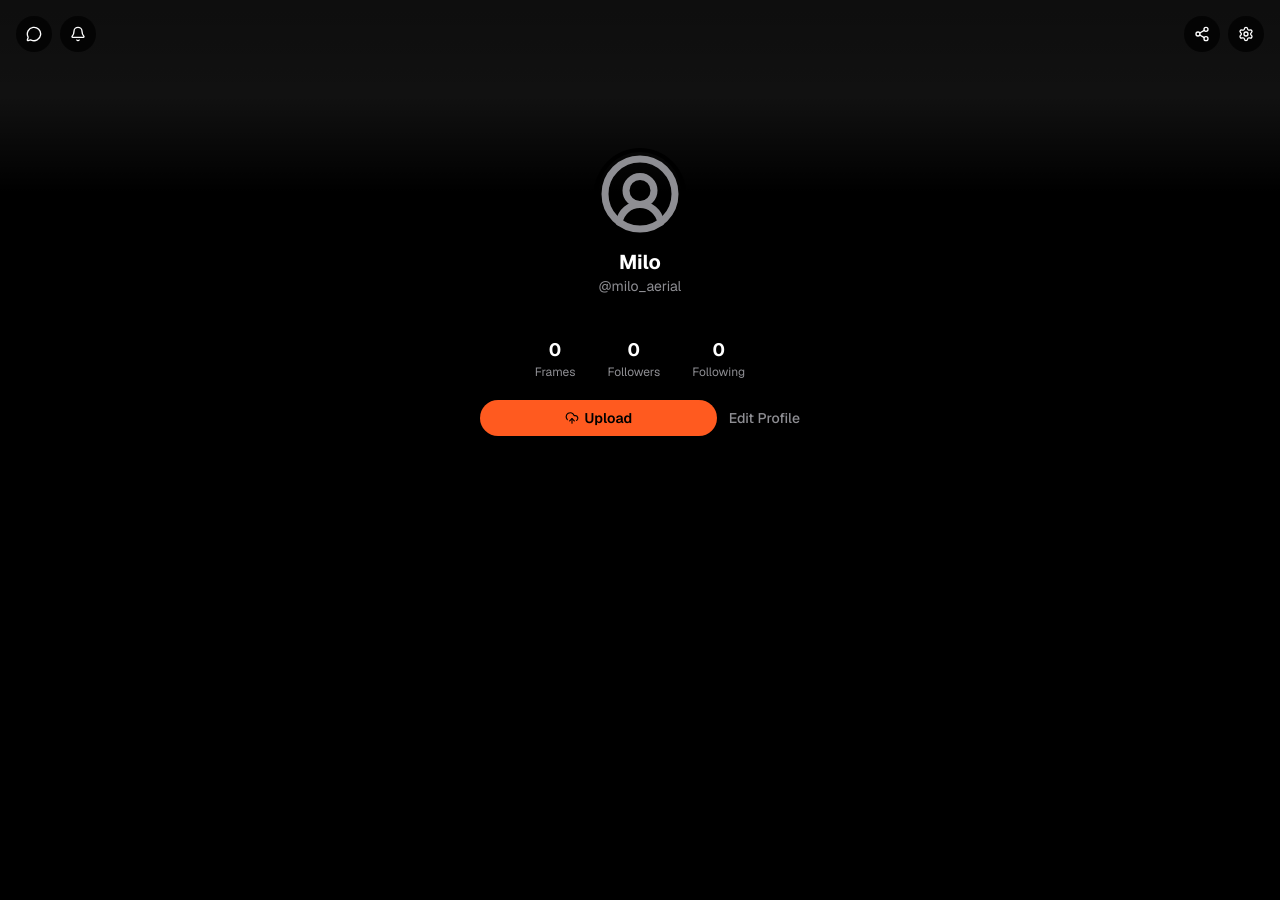
Test: ProfileHeader — own-profile action row › opens the edit modal from the Edit Profile control
The image size is (1280, 900).
What coordinates should you click on to do the following:
click the button "Edit Profile"
I would click on:
 (764, 418)
Its box is [729,408,800,428].
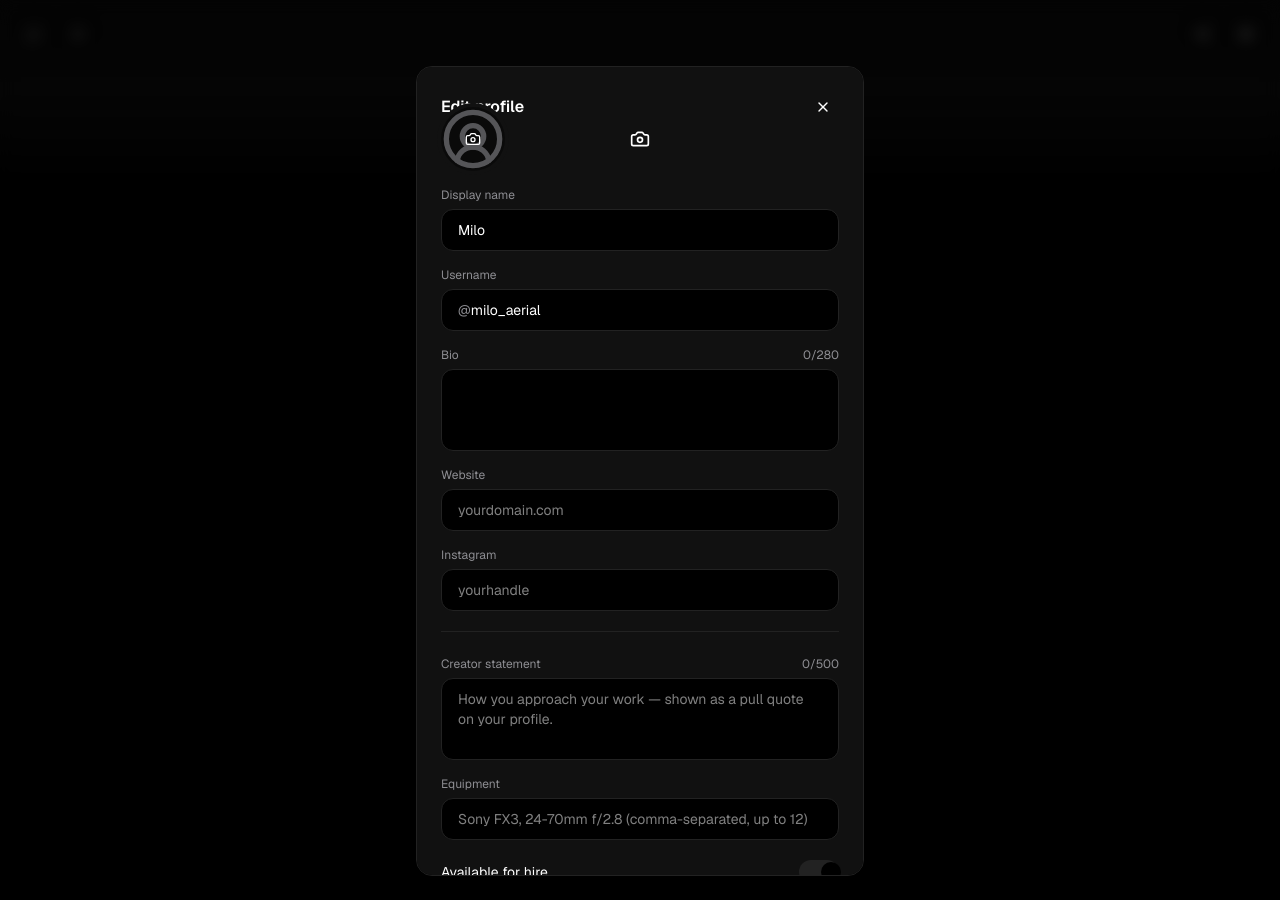
Expected: the dialog is shown, [416,66,864,876]
